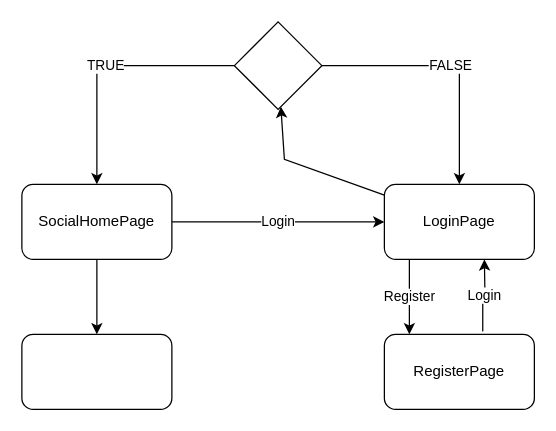
Some shapes in this 556 by 431 pixel diagram are drawn without their labels. Here are the shapes that lost their labels. From the top down, the centre of each, then its label:
At (x=277, y=65): "LoggedIn".
At (x=96, y=371): "ProfilePage".
